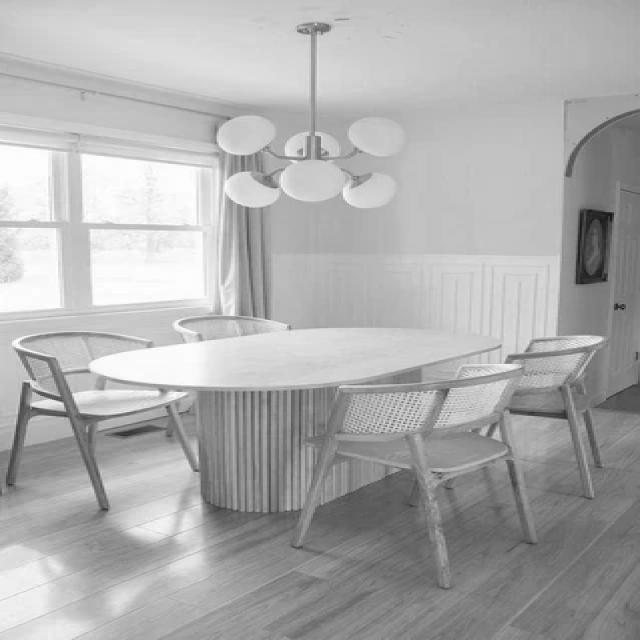table: (86, 297, 512, 412)
